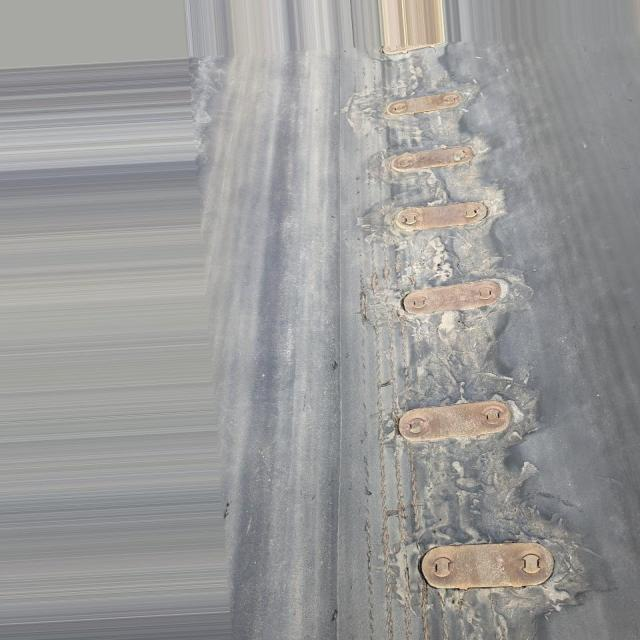patch work: (349, 58, 597, 625)
